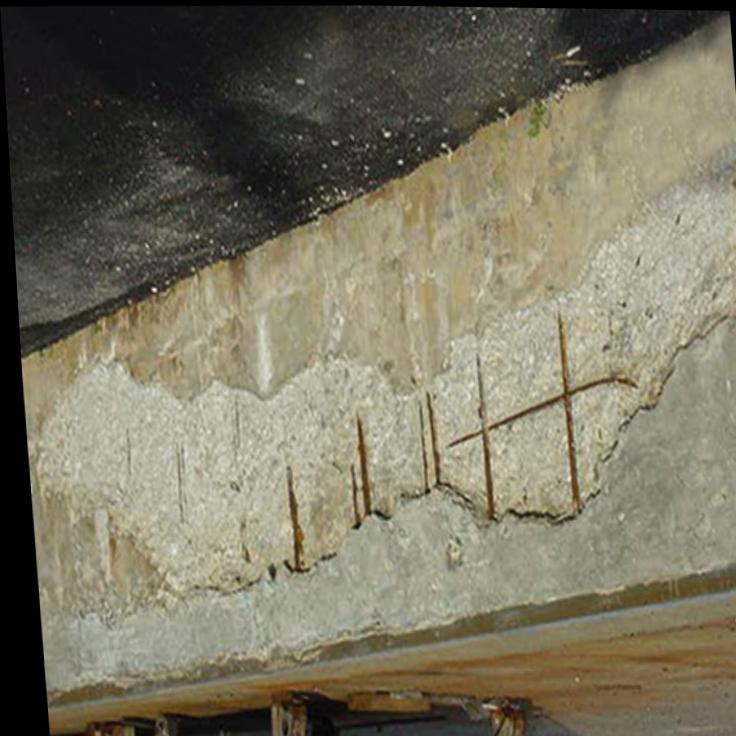damage: (38, 190, 736, 595)
